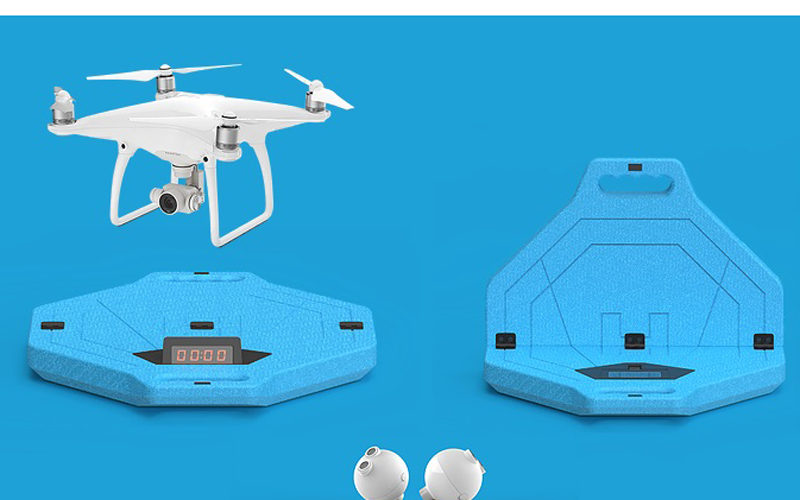drone: (40, 52, 371, 259)
